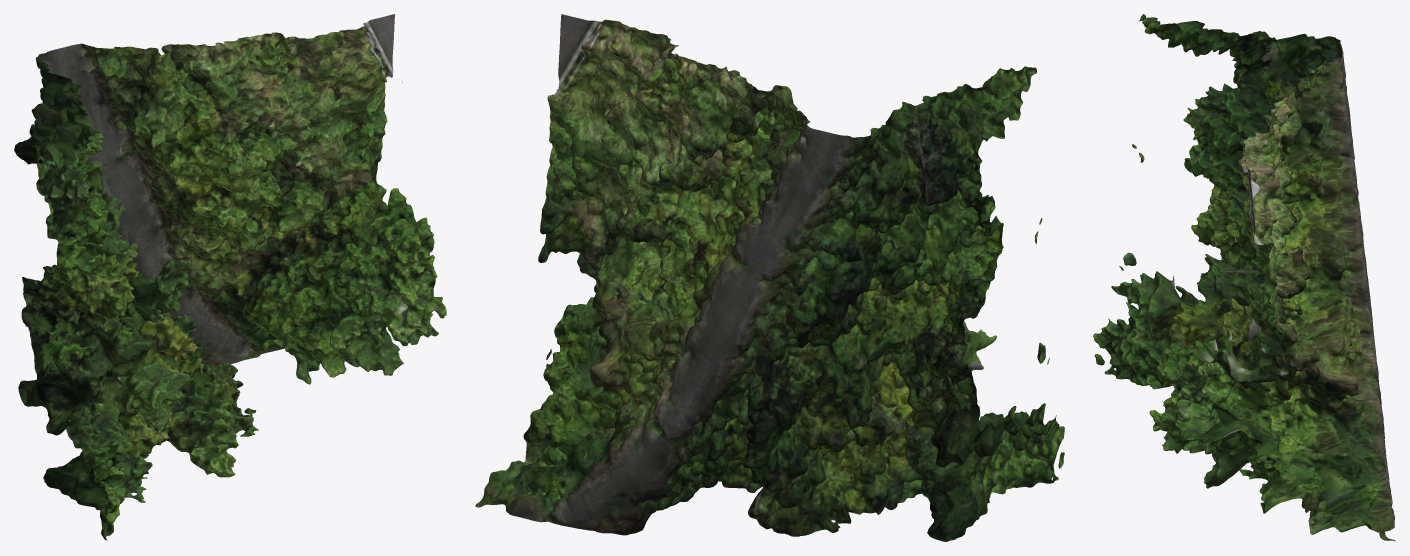
File: Tile_+006_+006.fbx
3 renders of one model, left to right at view 1: azimuth 30°, elevation 25°; view 2: azimuth 150°, elevation 25°; view 3: azimuth 270°, elevation 25°, orthographic. The views are drawn at different scales.
Visible parts, largest first — view 1: DefaultName; view 2: DefaultName; view 3: DefaultName.
Part boxes in pixels (bbox=[...]): DefaultName: bbox=[14, 14, 446, 541]; DefaultName: bbox=[475, 14, 1064, 541]; DefaultName: bbox=[1093, 14, 1395, 541].
Bounding box in the file's own units: 22.54 × 22.54 × 17.15.
